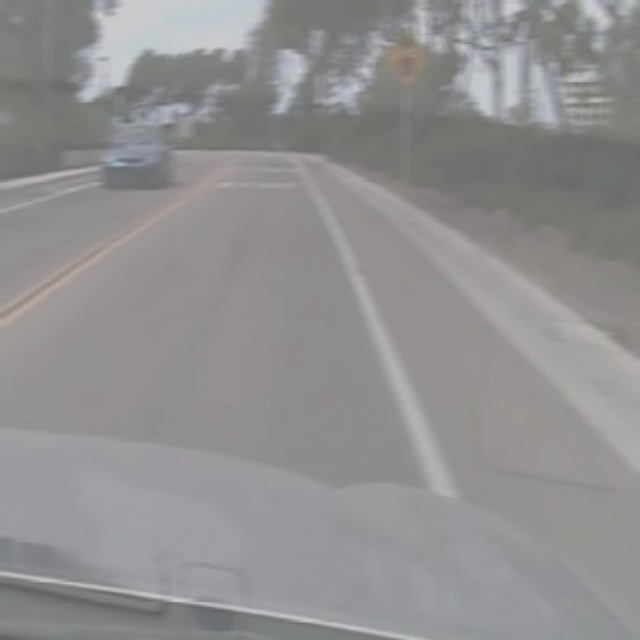stopAhead: (380, 29, 429, 88)
